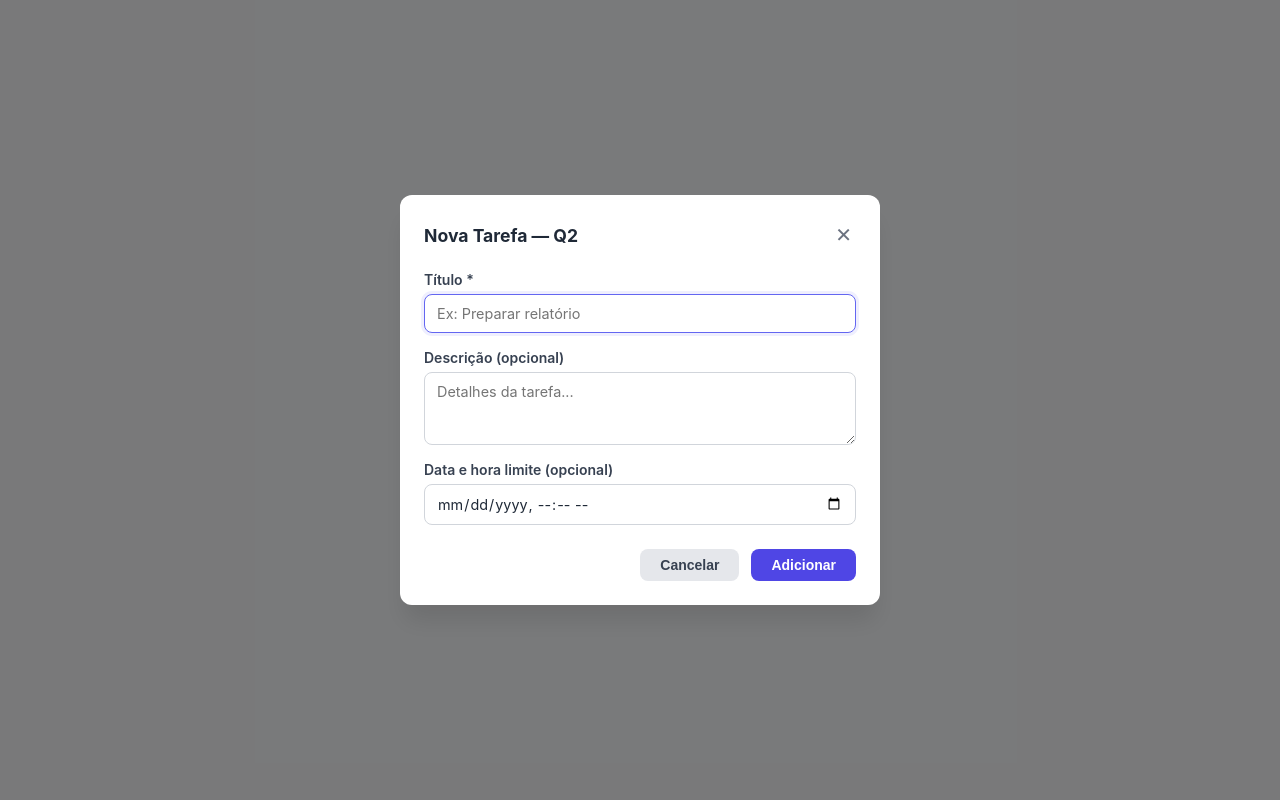
Test case: AddTaskModal › exibe erro quando título está vazio ao submeter
Click the button "Adicionar": (804, 565) [751,549,856,581]
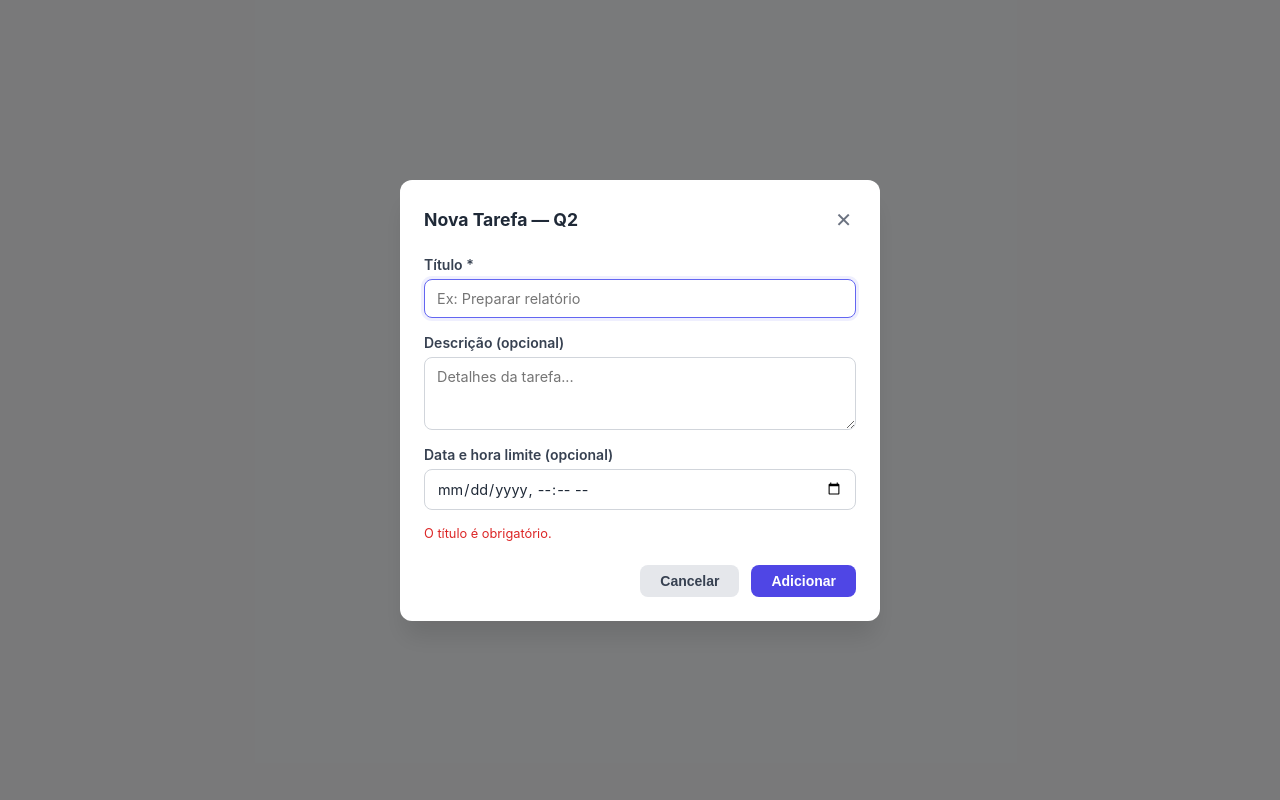
Now the text "O título é obrigatório." is shown, box [424,526,552,540]
